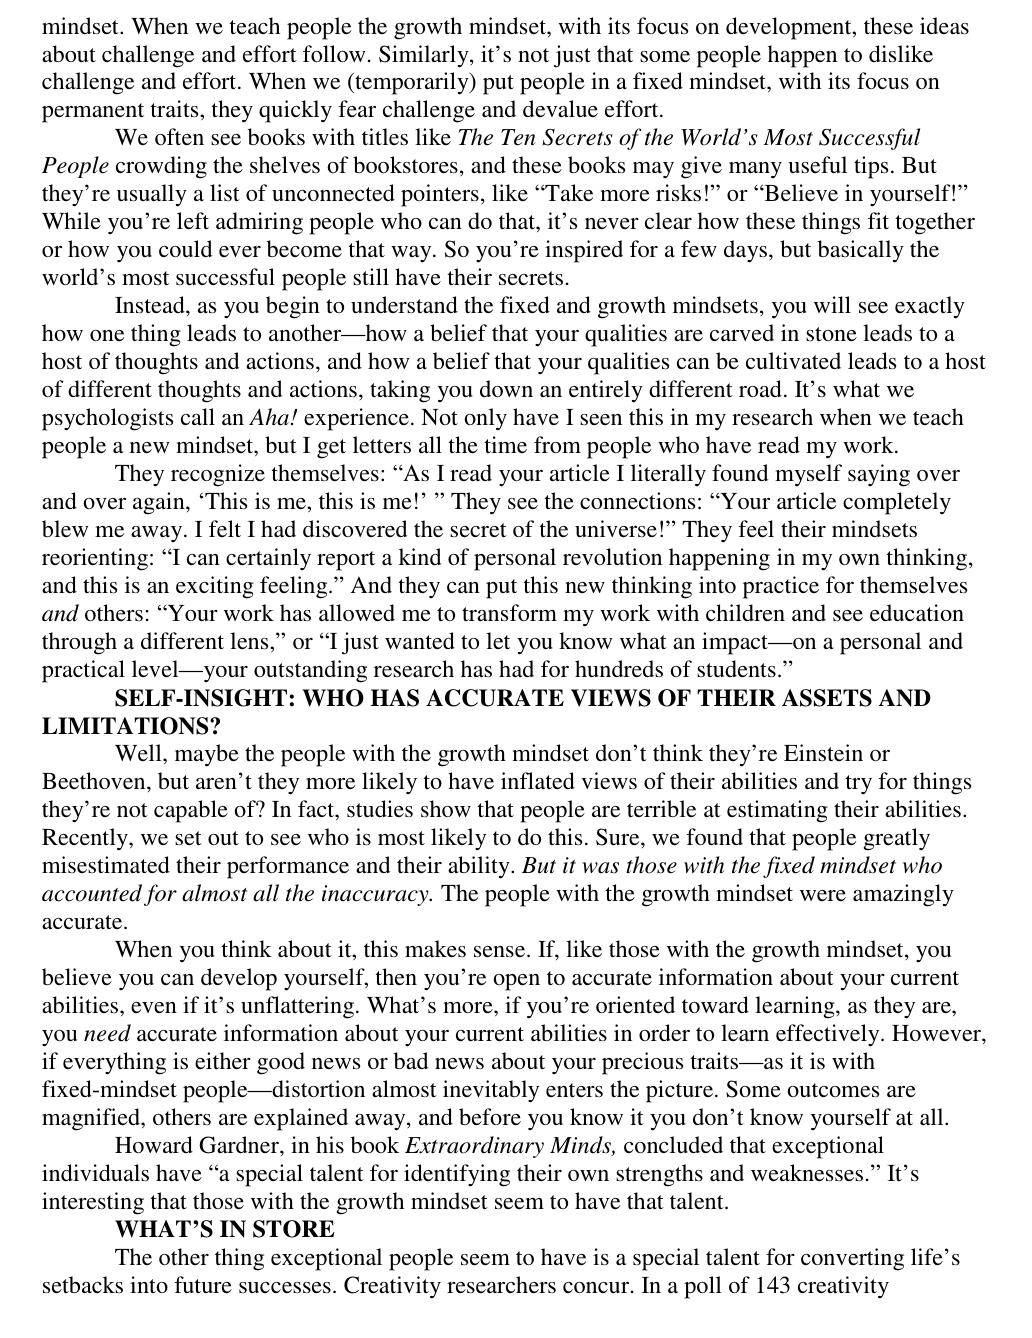latin: (38, 458, 993, 684), (40, 939, 988, 1136), (41, 746, 978, 932), (39, 294, 986, 458), (41, 120, 982, 285), (39, 15, 972, 120), (38, 1136, 921, 1217), (38, 1249, 963, 1300), (34, 684, 932, 736), (113, 1217, 334, 1241)
